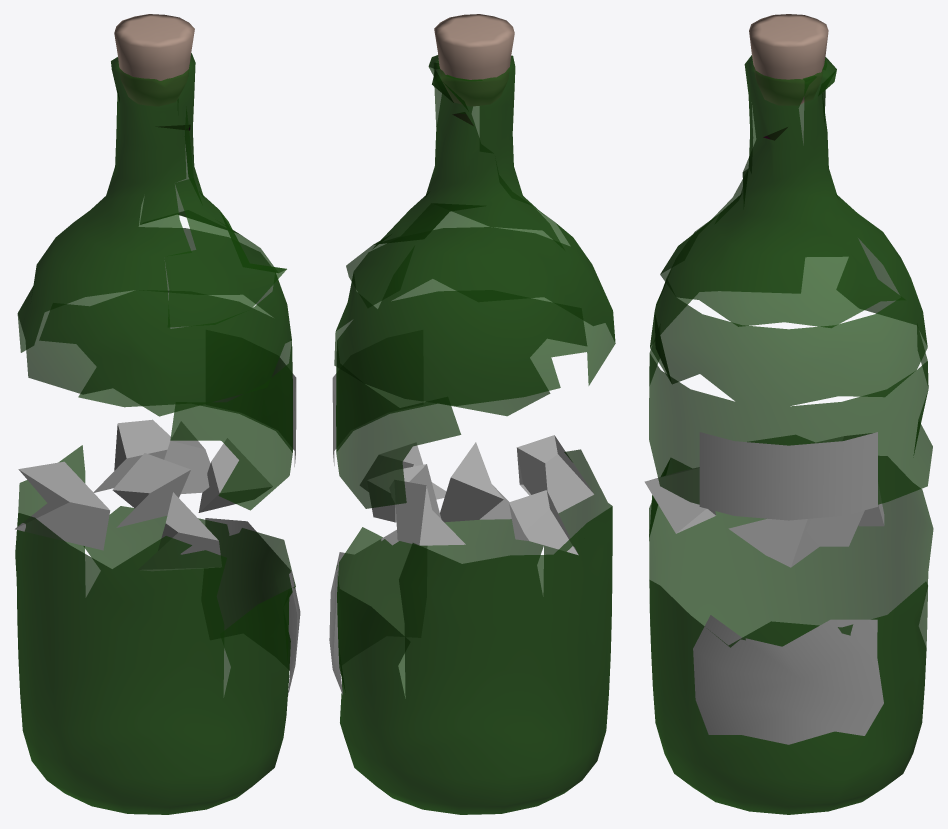
File: Wine_Broken.fbx
3 views of the same model, side by side, from view 1: azimuth 30°, elevation 25°; view 2: azimuth 150°, elevation 25°; view 3: azimuth 270°, elevation 25° (orthographic).
Visible parts, largest first — view 1: polySurface13, polySurface10, polySurface12, polySurface11, polySurface9, polySurface7, pCube2, pCube6, pCube1, pCube4, pCube3, pCube5; view 2: polySurface13, polySurface10, polySurface12, polySurface11, polySurface9, polySurface7, pCube6, pCube1, pCube3, pCube2, pCube5, pCube4; view 3: polySurface13, polySurface10, polySurface12, polySurface9, polySurface11, polySurface7, pCube4, pCube6, pCube5.
Part boxes in pixels (<box>): polySurface13: <box>15,290,296,814</box>; polySurface10: <box>83,506,300,809</box>; polySurface12: <box>17,227,291,416</box>; polySurface11: <box>34,57,191,328</box>; polySurface9: <box>140,53,286,327</box>; polySurface7: <box>114,14,194,106</box>; pCube2: <box>15,461,110,550</box>; pCube6: <box>138,492,221,570</box>; pCube1: <box>112,453,190,527</box>; pCube4: <box>198,438,272,512</box>; pCube3: <box>93,419,171,492</box>; pCube5: <box>164,421,210,493</box>; polySurface13: <box>332,291,612,814</box>; polySurface10: <box>329,519,543,809</box>; polySurface12: <box>334,227,615,405</box>; polySurface11: <box>378,55,594,328</box>; polySurface9: <box>346,55,563,308</box>; polySurface7: <box>434,14,514,106</box>; pCube6: <box>516,435,594,513</box>; pCube1: <box>440,442,511,522</box>; pCube3: <box>389,480,465,545</box>; pCube2: <box>509,490,578,555</box>; pCube5: <box>367,464,441,522</box>; pCube4: <box>360,443,446,499</box>; polySurface13: <box>649,325,933,771</box>; polySurface10: <box>649,580,927,814</box>; polySurface12: <box>650,226,927,406</box>; polySurface9: <box>660,70,905,328</box>; polySurface11: <box>692,55,910,296</box>; polySurface7: <box>749,14,828,105</box>; pCube4: <box>728,518,819,567</box>; pCube6: <box>644,467,715,533</box>; pCube5: <box>806,510,864,546</box>.
Bounding box in the file's own units: 2.09 × 5.97 × 2.11.
